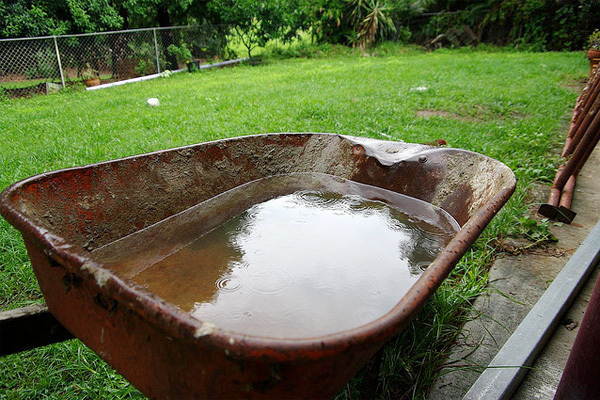container: (1, 110, 544, 398), (183, 59, 202, 73), (83, 76, 102, 87)
water: (90, 163, 469, 341)
wheelbarrow: (2, 112, 546, 400)
